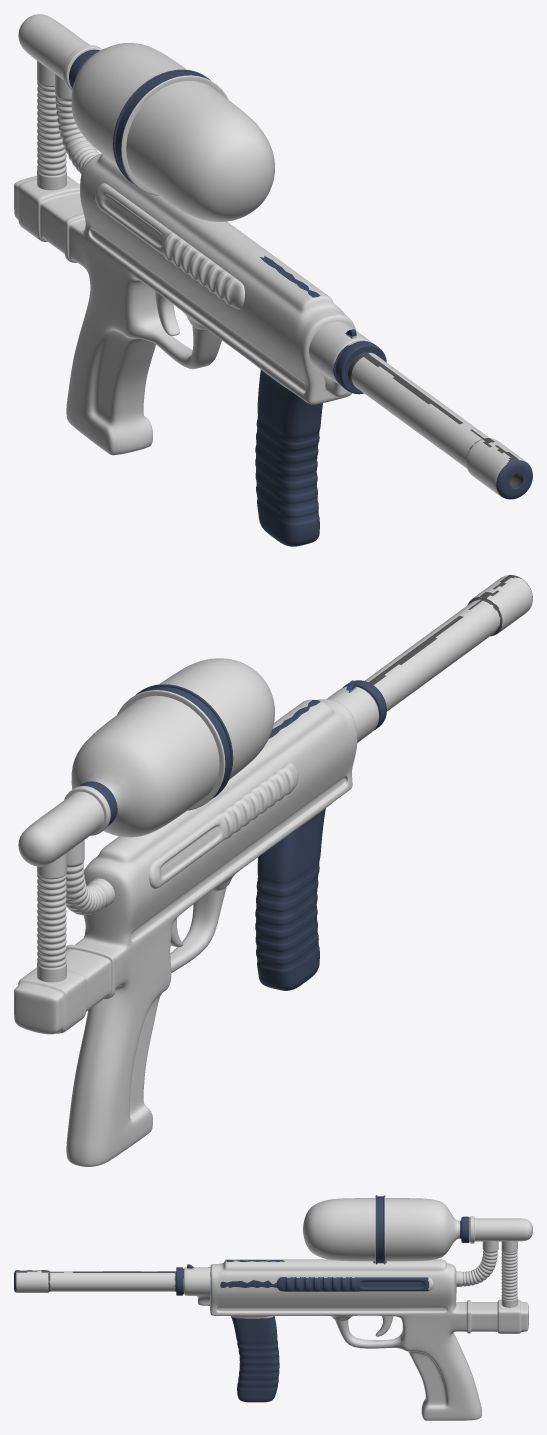
Rendered from PaintBallGunHalfShaded.fbx.
3 views of the same model, one above another, from view 1: azimuth 30°, elevation 25°; view 2: azimuth 150°, elevation 25°; view 3: azimuth 270°, elevation 25° (orthographic). The views are drawn at different scales.
Parts seen in each view (by area): view 1: Water Pistol.002; view 2: Water Pistol.002; view 3: Water Pistol.002.
Boxes of the visible parts, left/top/right/bottom form: Water Pistol.002: left=14, top=14, right=532, bottom=546; Water Pistol.002: left=14, top=575, right=532, bottom=1166; Water Pistol.002: left=14, top=1195, right=532, bottom=1420.
Size of the model in its own units: 111 by 384 by 831.
